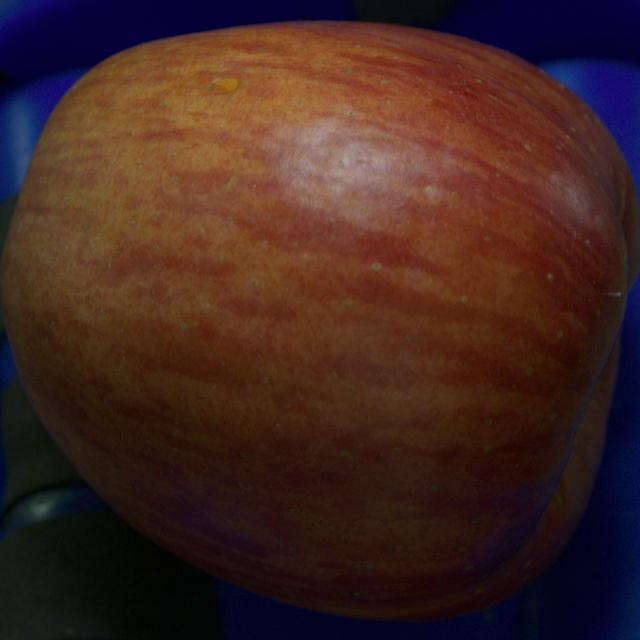apple: (0, 22, 639, 619)
pest: (211, 78, 238, 94)
